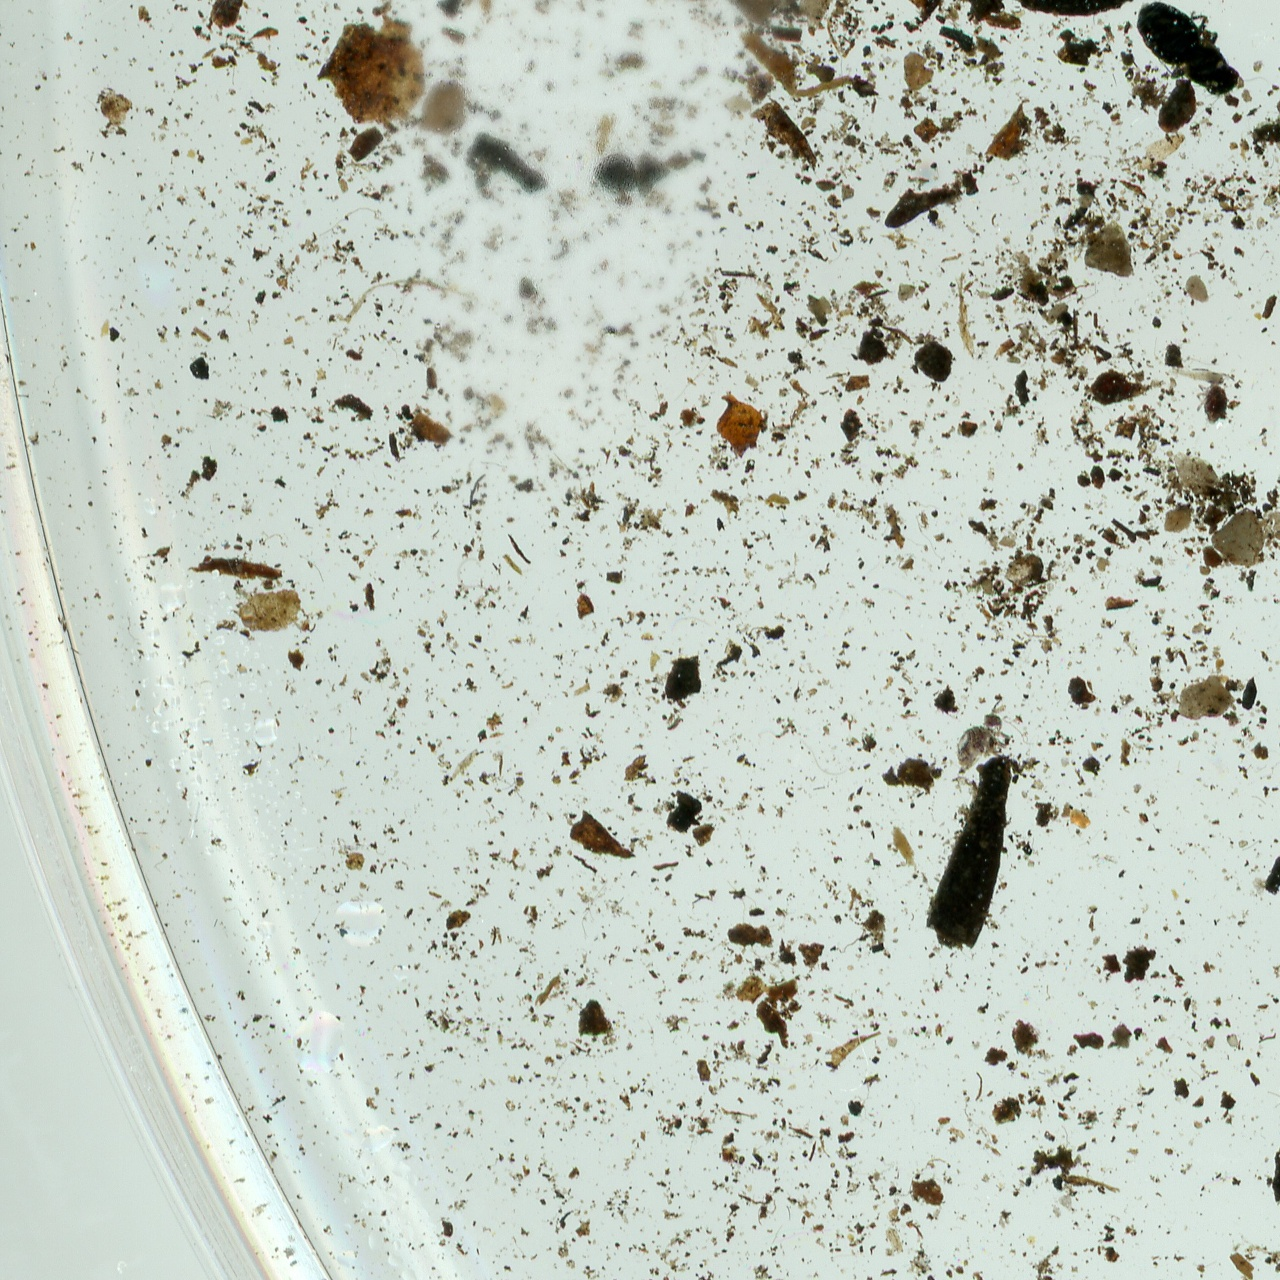arthropod: (1116, 0, 1280, 130), (943, 689, 1029, 787)
